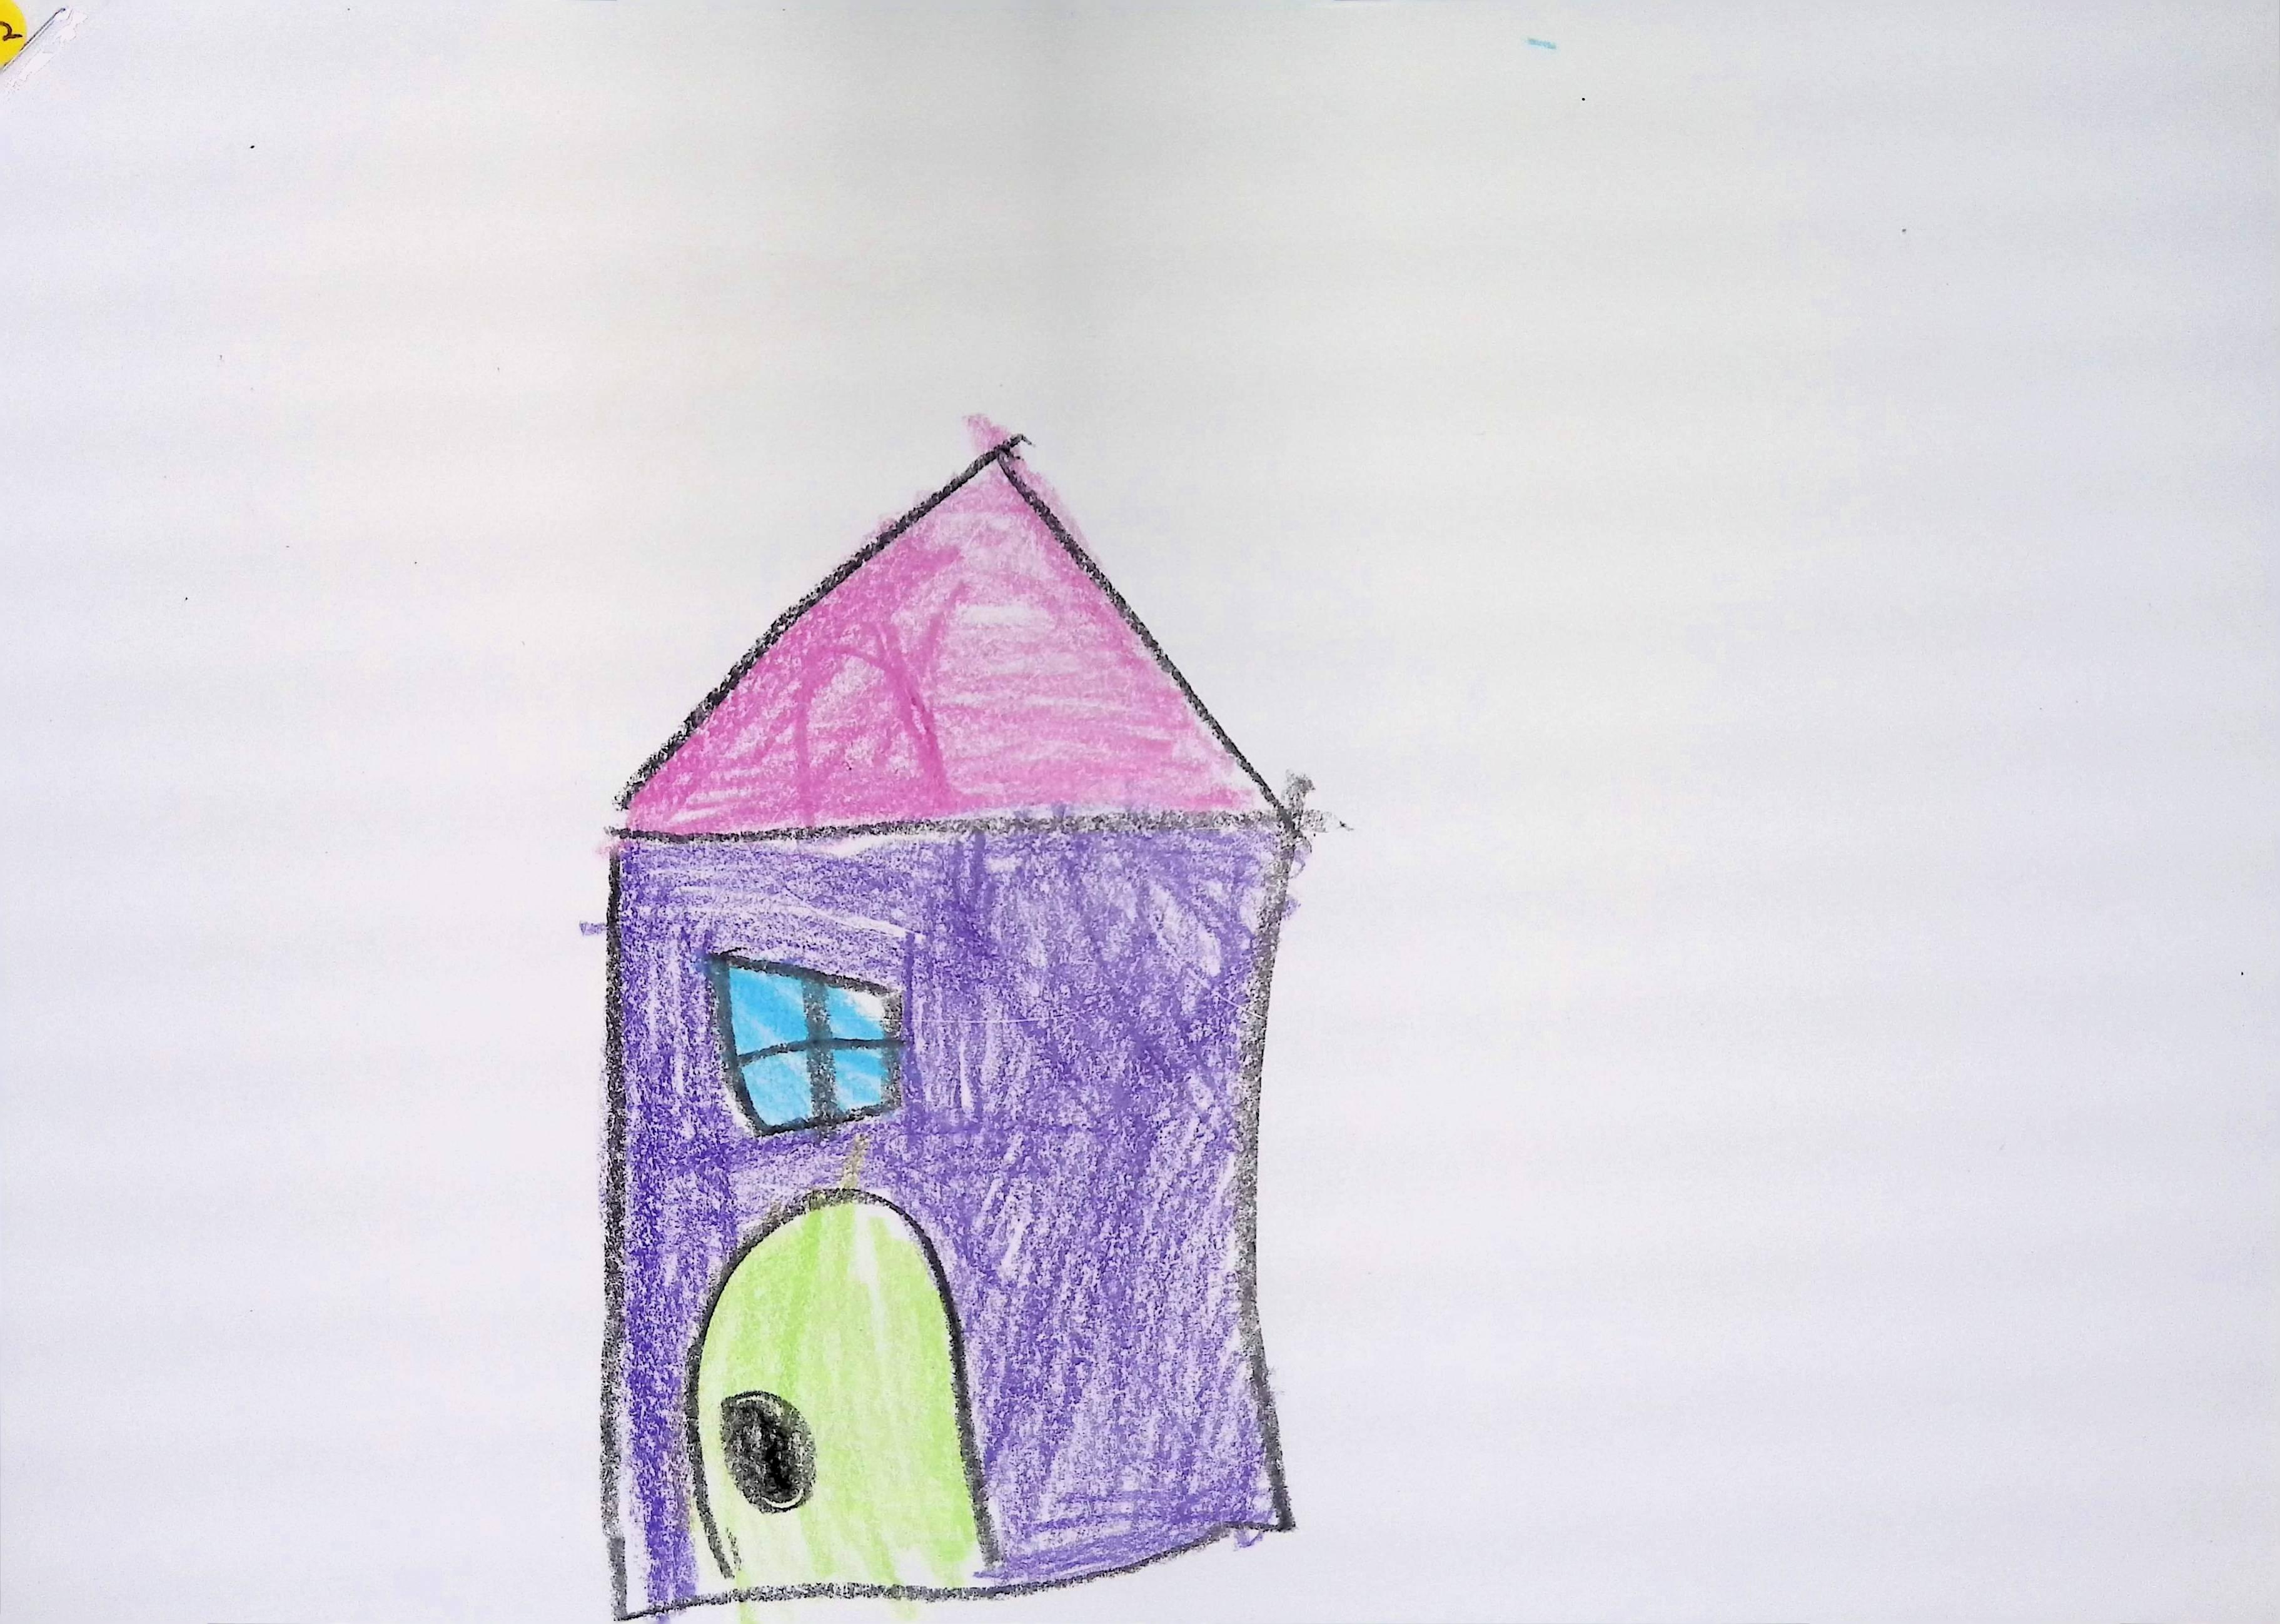door: (694, 1195, 983, 1589)
house: (603, 441, 1301, 1615)
roof: (622, 439, 1278, 835)
wall: (608, 817, 1285, 1613)
window: (708, 954, 900, 1132)
